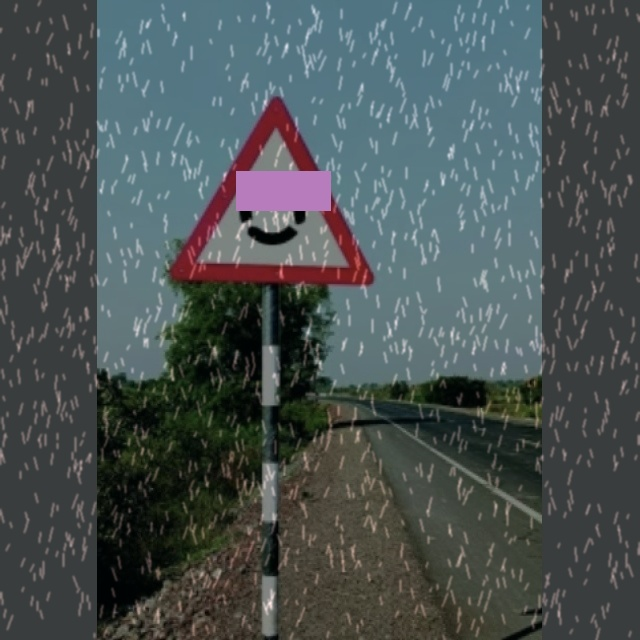Round_About: (164, 94, 387, 290)
